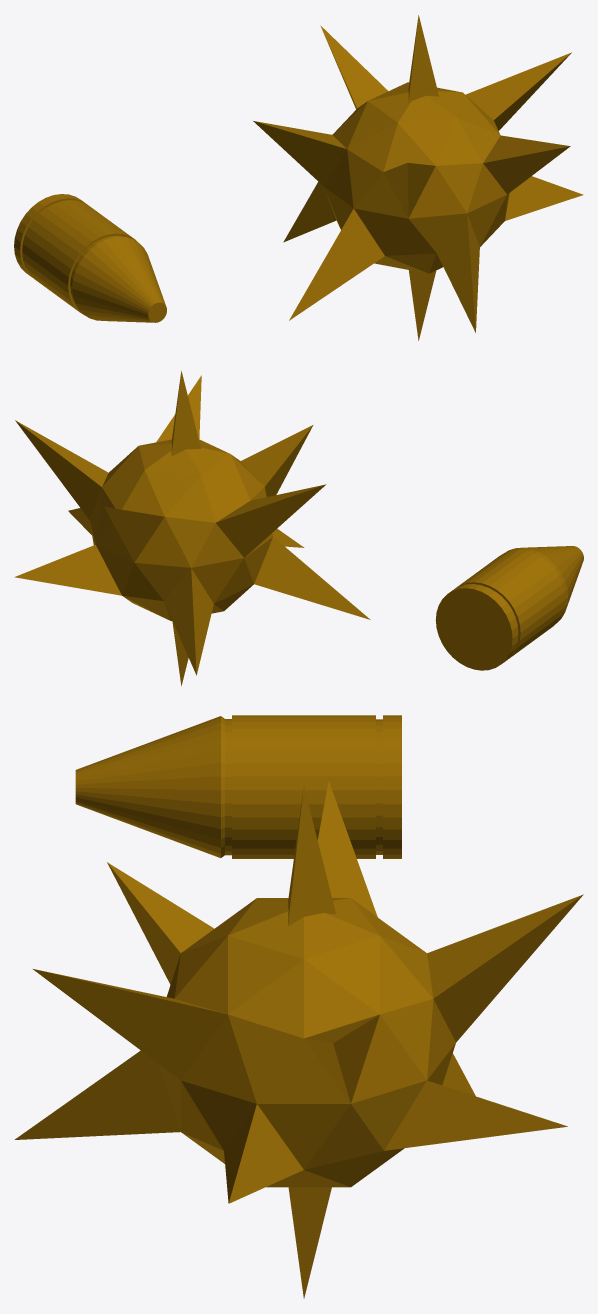
Rendered from Projectiles.glb.
The picture shows the model from 3 angles, top to bottom: view 1: azimuth 30°, elevation 25°; view 2: azimuth 150°, elevation 25°; view 3: azimuth 270°, elevation 25°; orthographic projection. The views are drawn at different scales.
Visible parts, largest first — view 1: Icosphere, Cylinder.001; view 2: Icosphere, Cylinder.001; view 3: Icosphere, Cylinder.001.
Boxes of the visible parts, box(x1,y1,x2,y2) form: Icosphere: box(253, 15, 583, 340); Cylinder.001: box(14, 194, 166, 322); Icosphere: box(14, 370, 370, 686); Cylinder.001: box(435, 546, 583, 670); Icosphere: box(14, 781, 583, 1298); Cylinder.001: box(75, 715, 401, 858).
Size of the model in its own units: 2.08 by 1.21 by 1.22.
